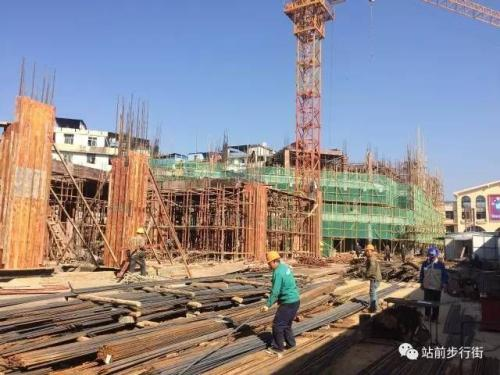hard-hat: (266, 250, 281, 262), (427, 246, 439, 257), (365, 243, 374, 251), (136, 227, 145, 234)
person: (260, 250, 301, 352), (419, 246, 449, 323), (363, 244, 382, 313), (128, 227, 149, 276), (384, 243, 391, 261), (355, 242, 362, 258)
